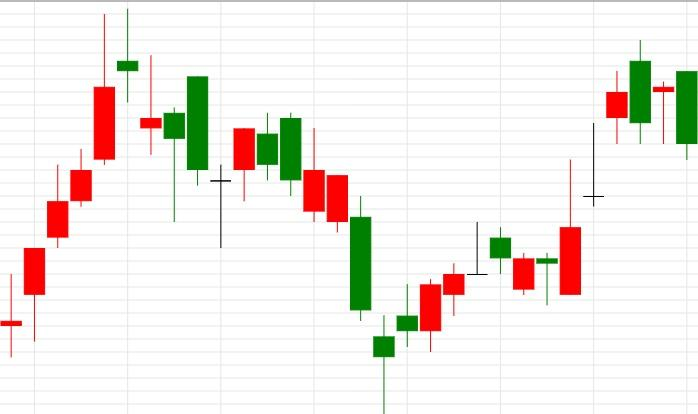bearish_engulfing_fall: (512, 41, 698, 306), (513, 41, 652, 306)
hammer_rise: (117, 8, 186, 222)
morning_star_rise: (117, 8, 256, 248)
